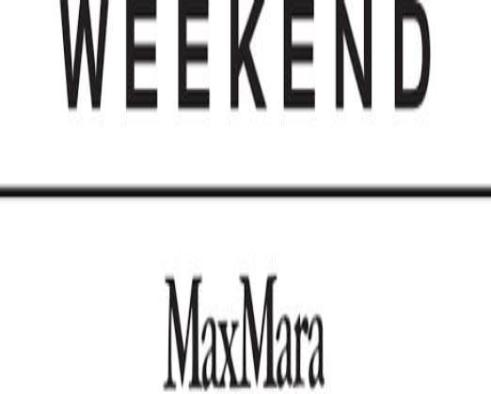MAX-MARA: (163, 274, 328, 391)
